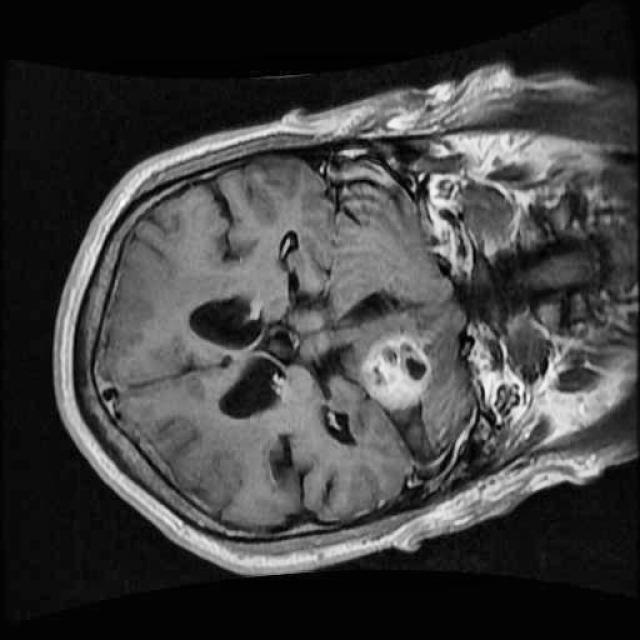Tumor: (348, 322, 461, 429)
